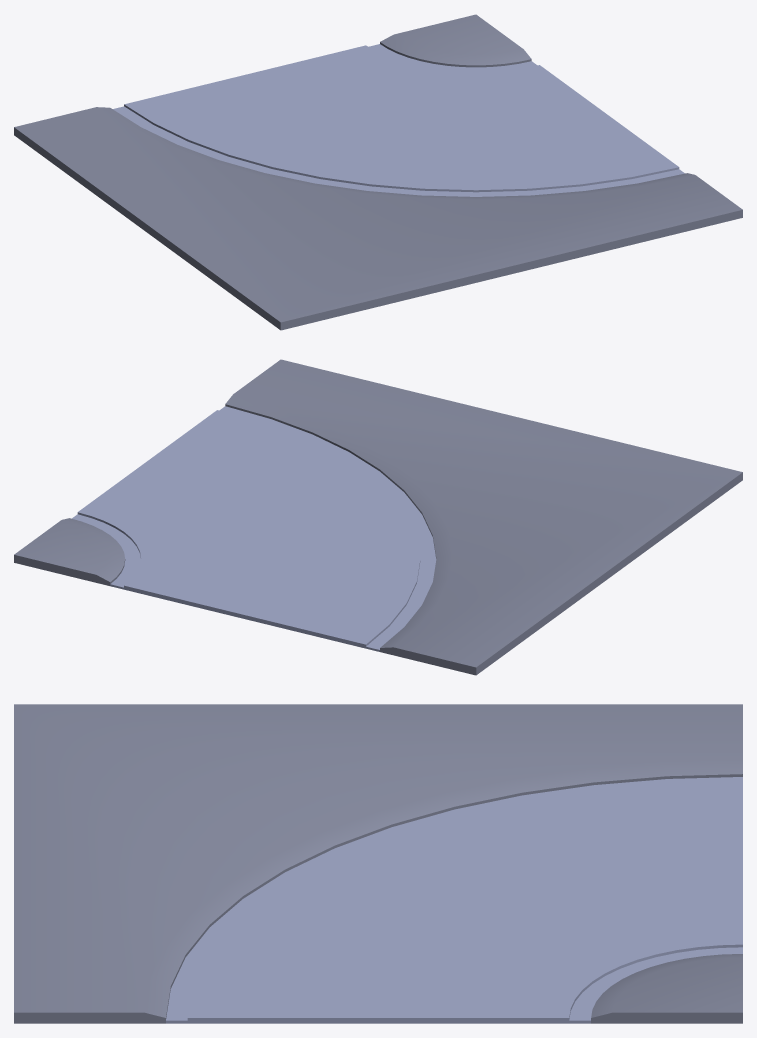
The model's file is road-bend.fbx.
The picture shows the model from 3 angles, top to bottom: view 1: azimuth 30°, elevation 25°; view 2: azimuth 150°, elevation 25°; view 3: azimuth 270°, elevation 25°; orthographic projection. The views are drawn at different scales.
Visible parts, largest first — view 1: road-bend; view 2: road-bend; view 3: road-bend.
Part boxes in pixels (left/top/right/bottom): road-bend: left=14, top=14, right=742, bottom=330; road-bend: left=14, top=359, right=742, bottom=675; road-bend: left=14, top=704, right=742, bottom=1023.
Bounding box in the file's own units: 300 × 5 × 300.
Materials: 1 (1 with a texture image).
